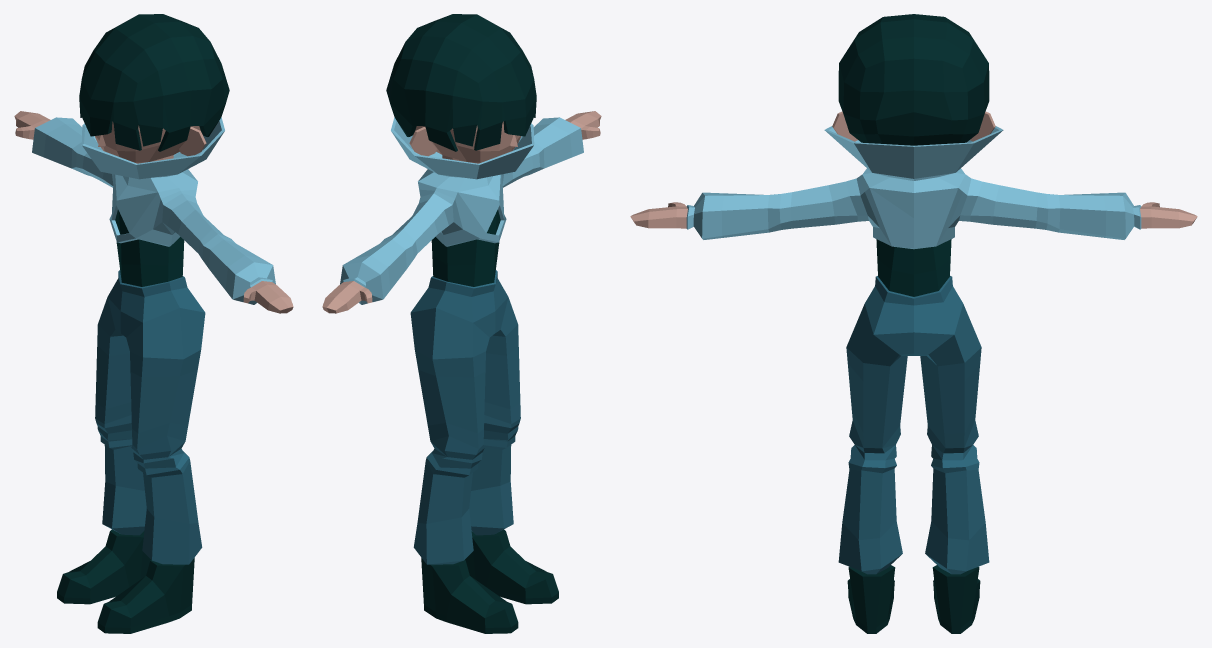
File: music_character.fbx
The picture shows the model from 3 angles, left to right: view 1: azimuth 30°, elevation 25°; view 2: azimuth 150°, elevation 25°; view 3: azimuth 270°, elevation 25°; orthographic projection. The views are drawn at different scales.
Visible parts, largest first — view 1: 1.head; view 2: 1.head; view 3: 1.head.
Part boxes in pixels (box(x1,y1,x2,y2)): 1.head: box(14, 14, 293, 633); 1.head: box(322, 14, 601, 633); 1.head: box(630, 14, 1197, 633).
Bounding box in the file's own units: 81.13 × 329 × 279.
